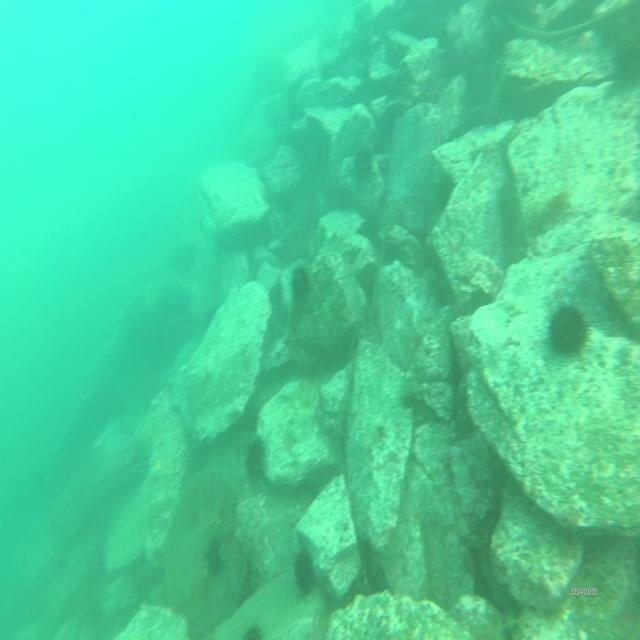echinus: (544, 297, 596, 367), (202, 532, 225, 584), (241, 436, 266, 482), (289, 264, 315, 308), (294, 548, 314, 598), (355, 145, 374, 189), (240, 623, 267, 640)
